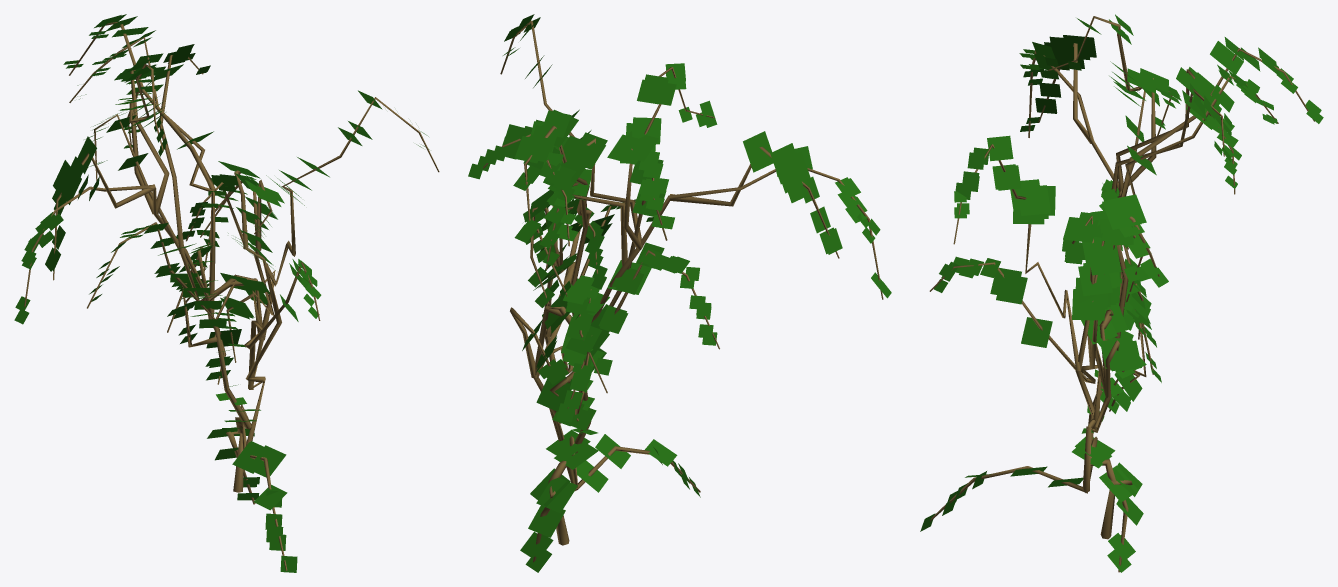
The model's file is ivy5.fbx.
The picture shows the model from 3 angles, left to right: view 1: azimuth 30°, elevation 25°; view 2: azimuth 150°, elevation 25°; view 3: azimuth 270°, elevation 25°; orthographic projection. The views are drawn at different scales.
Visible parts, largest first — view 1: IVY_Curve.004; view 2: IVY_Curve.004; view 3: IVY_Curve.004.
Part boxes in pixels (x1,y1,x2,y2): IVY_Curve.004: (14, 14, 439, 572); IVY_Curve.004: (468, 14, 891, 572); IVY_Curve.004: (920, 14, 1323, 572).
Bounding box in the file's own units: 209 × 243 × 179.
